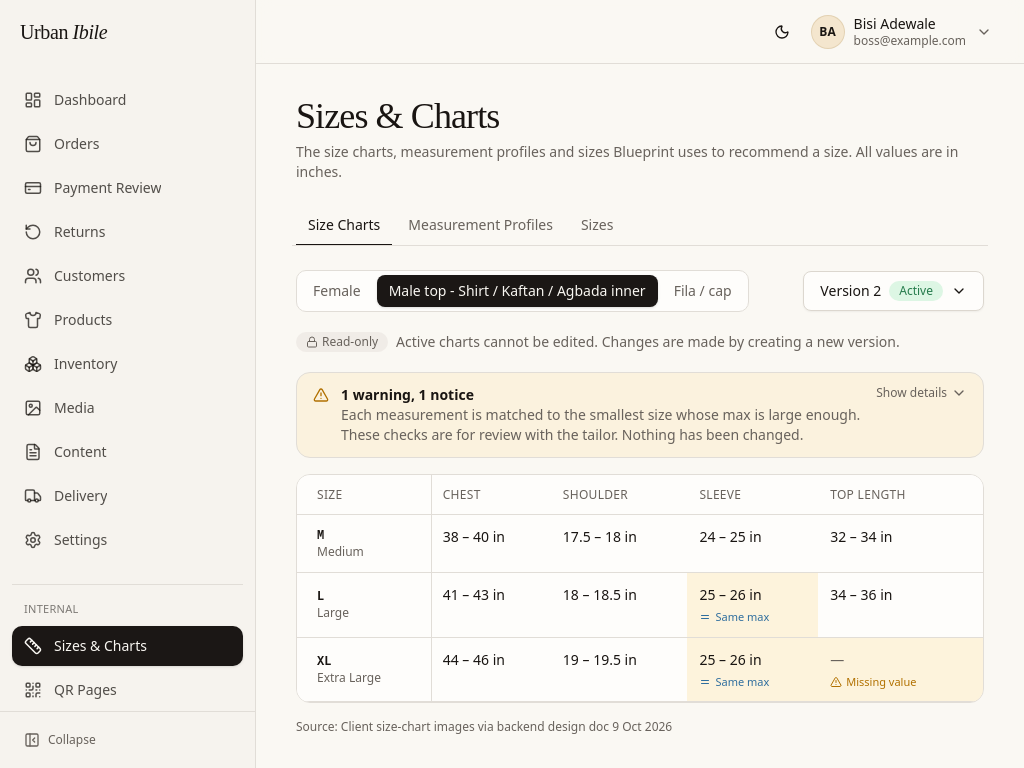
Test: Sizes & Charts section › explains on each cell which max is used for matching
Hover over the button "38 – 40 in" at (474, 537), box [443,527,505,547]
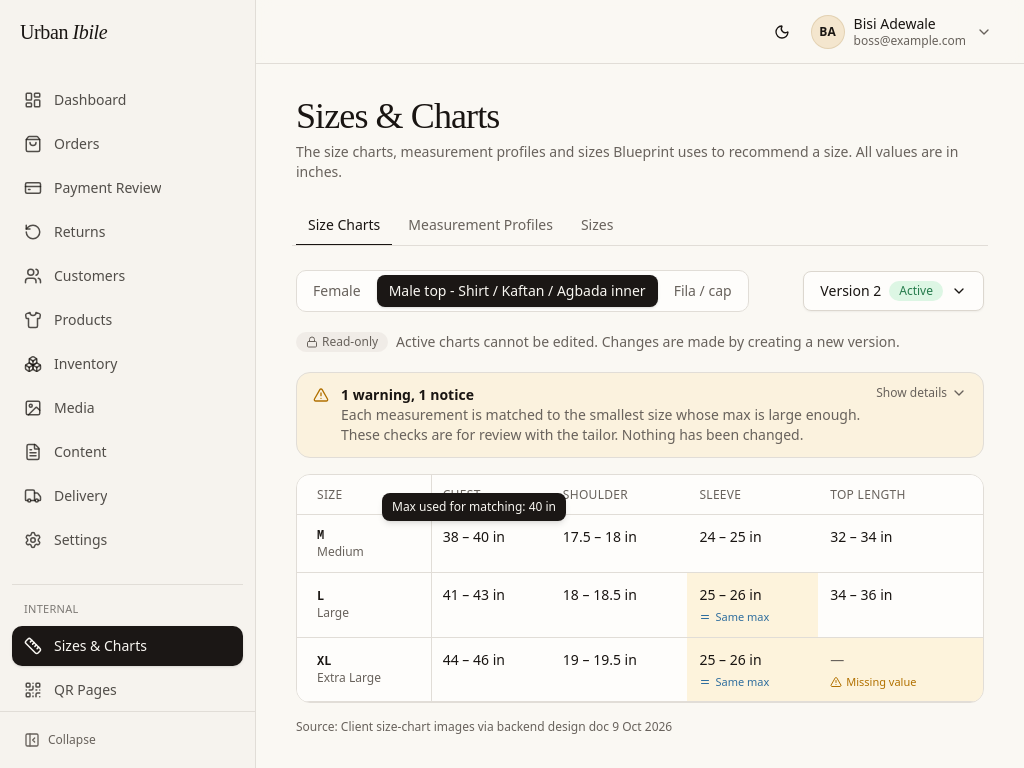
Now the tooltip reads "Max used for matching: 40 in", box [382,493,566,521]
